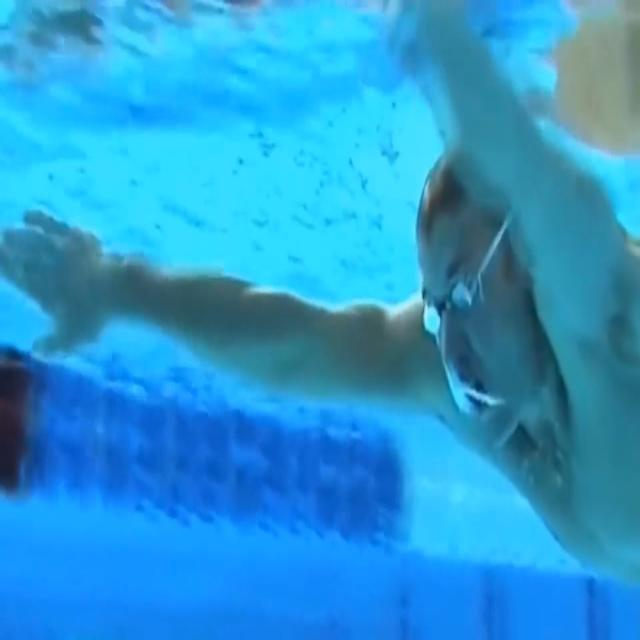Swimming: (380, 147, 640, 588)
